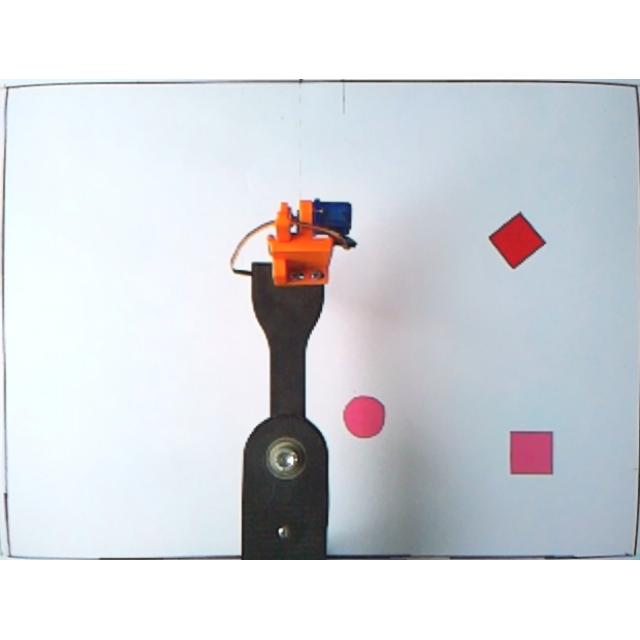pinkCircle: (344, 396, 386, 442)
pinkSquare: (509, 430, 555, 478)
redSquare: (488, 212, 548, 272)
